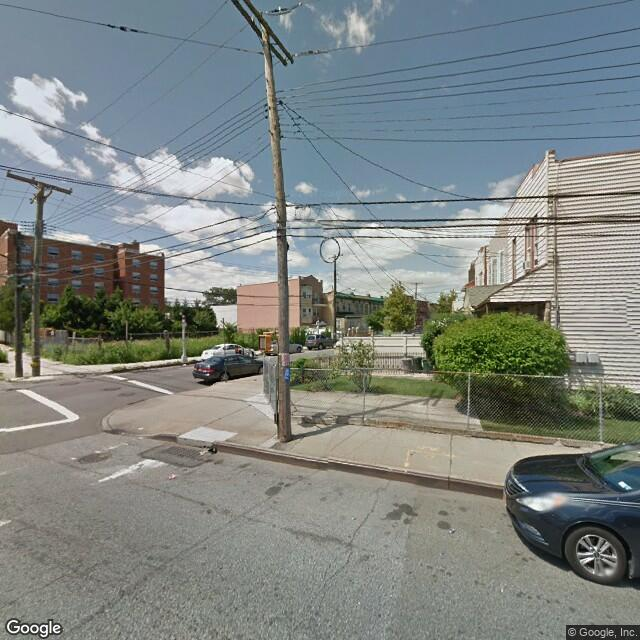litter: (199, 446, 219, 456), (167, 474, 180, 481), (448, 527, 459, 533)
